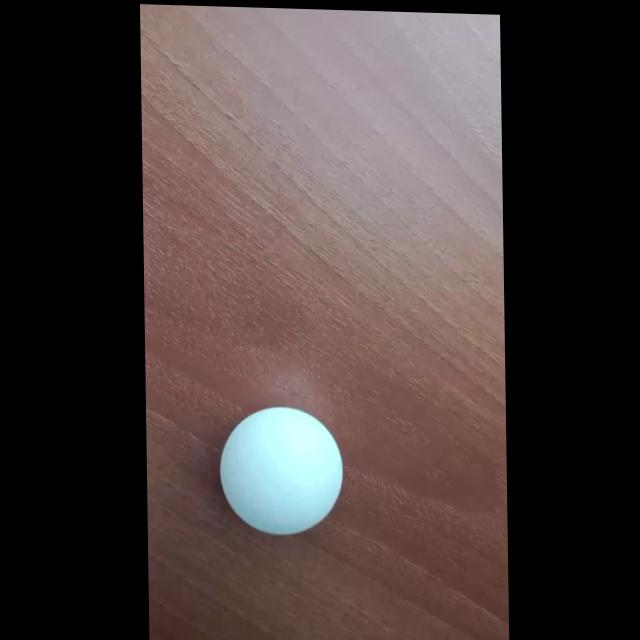white ball: (218, 403, 344, 537)
